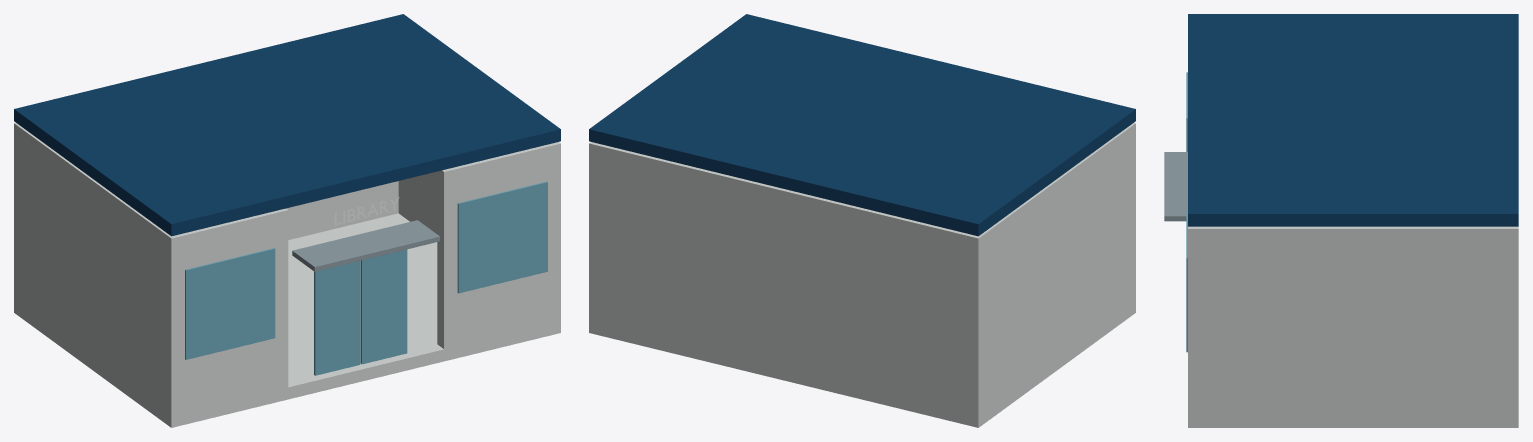
Rendered from edited.glb.
The picture shows the model from 3 angles, left to right: view 1: azimuth 30°, elevation 25°; view 2: azimuth 150°, elevation 25°; view 3: azimuth 270°, elevation 25°; orthographic projection. The views are drawn at different scales.
Parts seen in each view (by area): view 1: ROOF, SHELL_Side, SHELL_Floor, SHELL_Front, SHELL_Front.001, WINDOW.001, WINDOW, ENTRANCE_Leaf.001, ENTRANCE_Leaf, SHELL_Back, ENTRANCE_Canopy, SHELL_Side.001; view 2: SHELL_Back, ROOF, SHELL_Side, SHELL_Floor, SHELL_Side.001, SHELL_Front; view 3: ROOF, SHELL_Side.001, SHELL_Floor, SHELL_Back, SHELL_Front.001, ENTRANCE_Canopy.
Part boxes in pixels (x1,y1,x2,y2): ROOF: [14, 14, 560, 236]; SHELL_Side: [19, 125, 182, 420]; SHELL_Floor: [14, 213, 560, 427]; SHELL_Front: [164, 208, 288, 421]; SHELL_Front.001: [437, 143, 560, 349]; WINDOW.001: [457, 181, 547, 293]; WINDOW: [185, 248, 275, 359]; ENTRANCE_Leaf.001: [360, 249, 407, 364]; ENTRANCE_Leaf: [314, 261, 360, 375]; SHELL_Back: [14, 123, 398, 310]; ENTRANCE_Canopy: [292, 220, 439, 271]; SHELL_Side.001: [398, 142, 560, 233]; SHELL_Back: [589, 142, 985, 421]; ROOF: [589, 14, 1135, 236]; SHELL_Side: [967, 123, 1135, 421]; SHELL_Floor: [589, 301, 1135, 427]; SHELL_Side.001: [589, 142, 602, 323]; SHELL_Front: [1129, 123, 1135, 310]; ROOF: [1188, 14, 1518, 226]; SHELL_Side.001: [1188, 226, 1518, 421]; SHELL_Floor: [1188, 415, 1518, 427]; SHELL_Back: [1504, 226, 1518, 421]; SHELL_Front.001: [1188, 226, 1201, 421]; ENTRANCE_Canopy: [1164, 152, 1187, 221].
Bounding box in the file's own units: 10 × 5 × 7.5.
